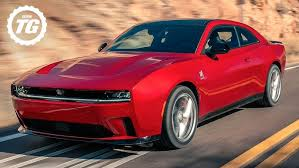car: (10, 15, 287, 148)
